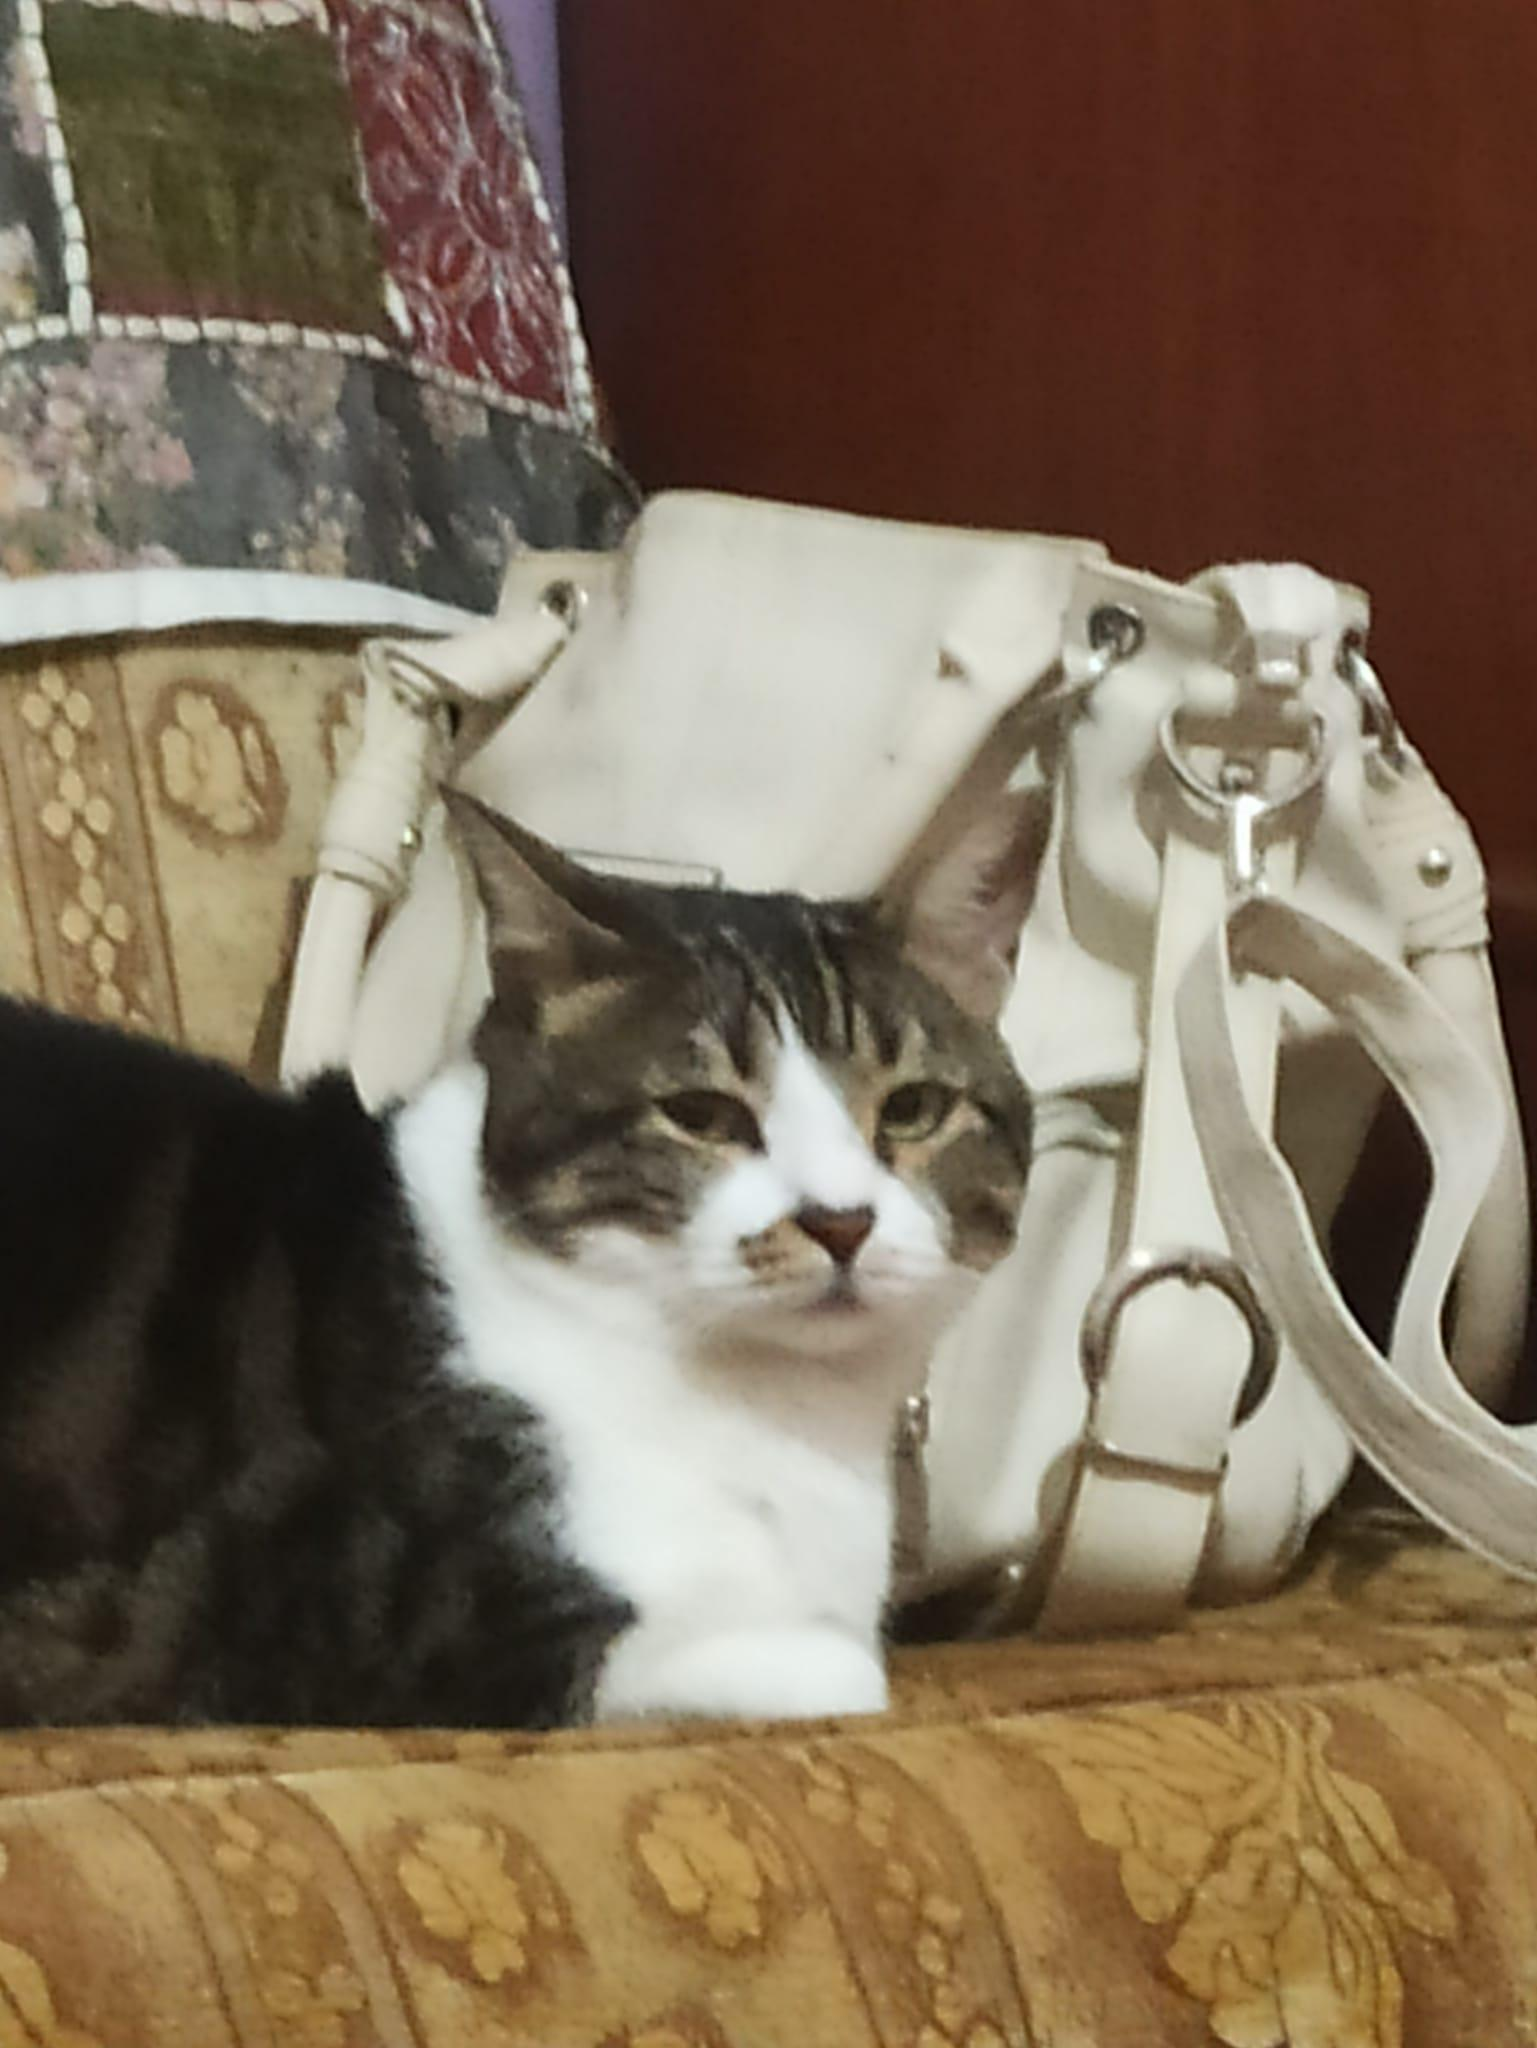kedo: (10, 781, 1028, 1709)
